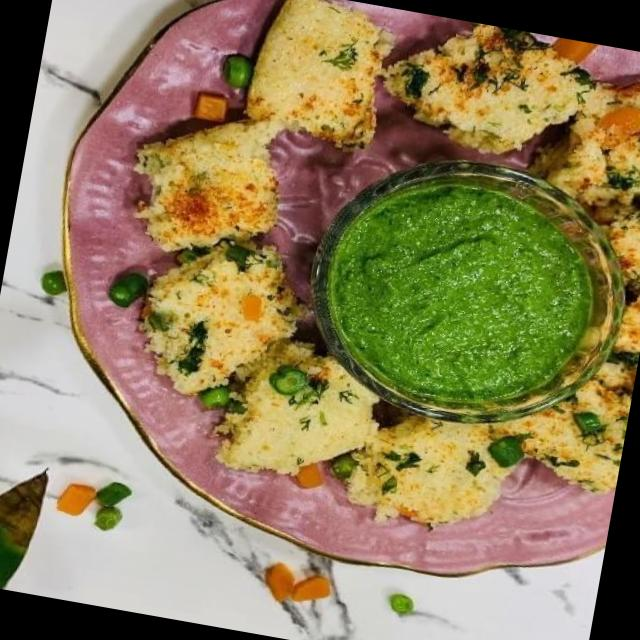dhokla: (110, 0, 640, 567)
